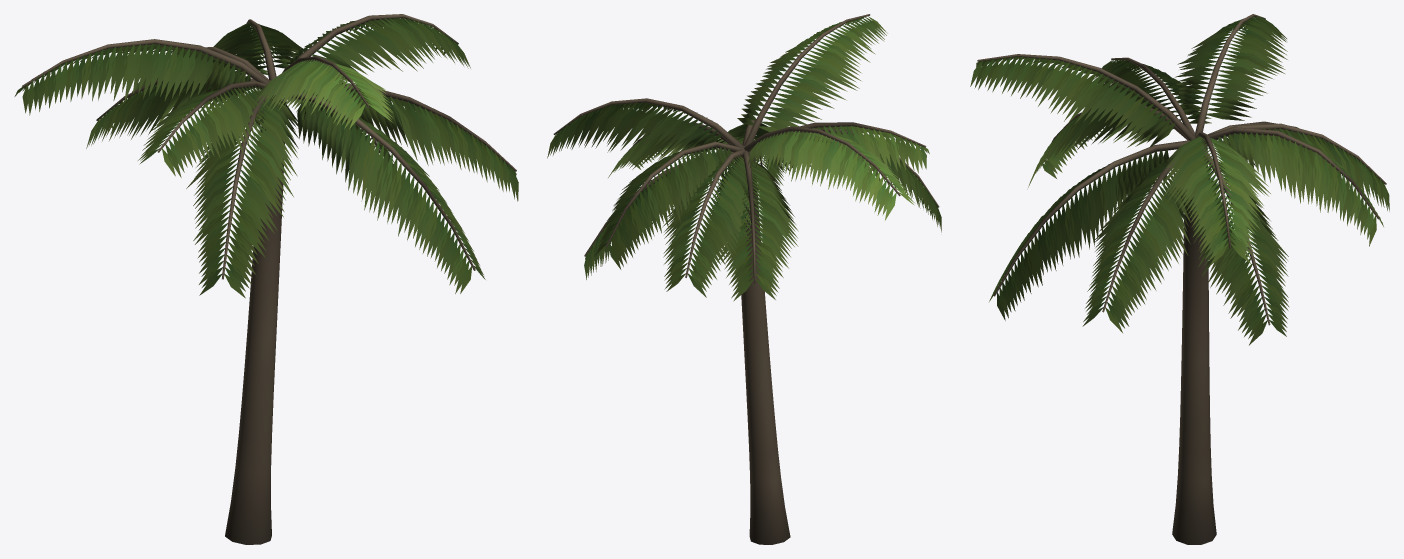
Rendered from palm-c.lod0.glb.
3 renders of one model, left to right at view 1: azimuth 30°, elevation 25°; view 2: azimuth 150°, elevation 25°; view 3: azimuth 270°, elevation 25°, orthographic. The views are drawn at different scales.
Bounding box in the file's own units: 5.7 × 6.71 × 5.26.
